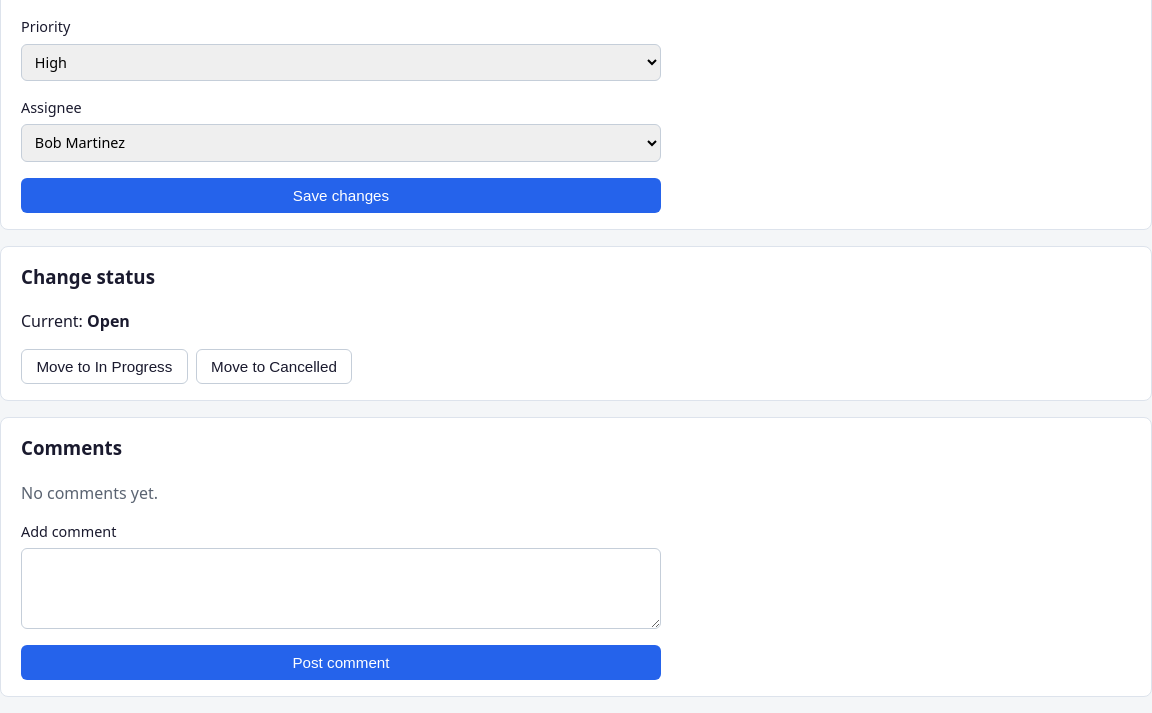
Test: TicketDetailPage › submits comment with X-User-Id
(page scrolled)
Type "Checking logs" into the text box labelled "Add comment" at (341,589), box [21, 548, 661, 629]
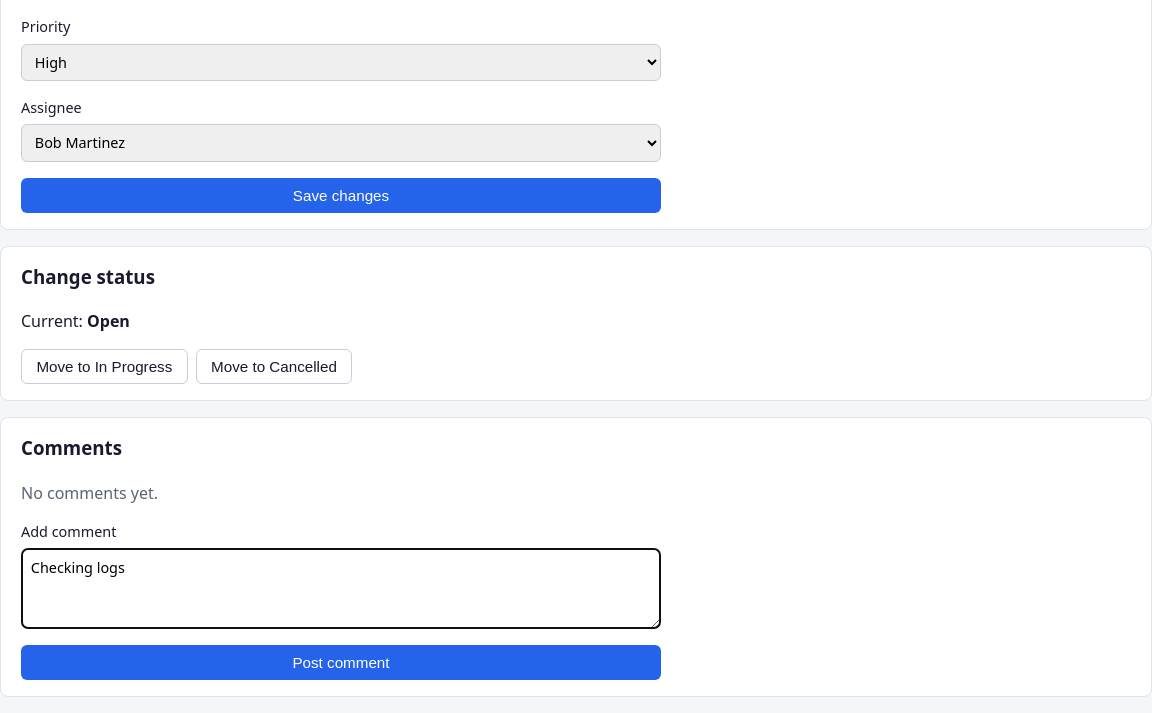
Click the button "Post comment" at (341,663), box [21, 646, 661, 680]
(page scrolled)
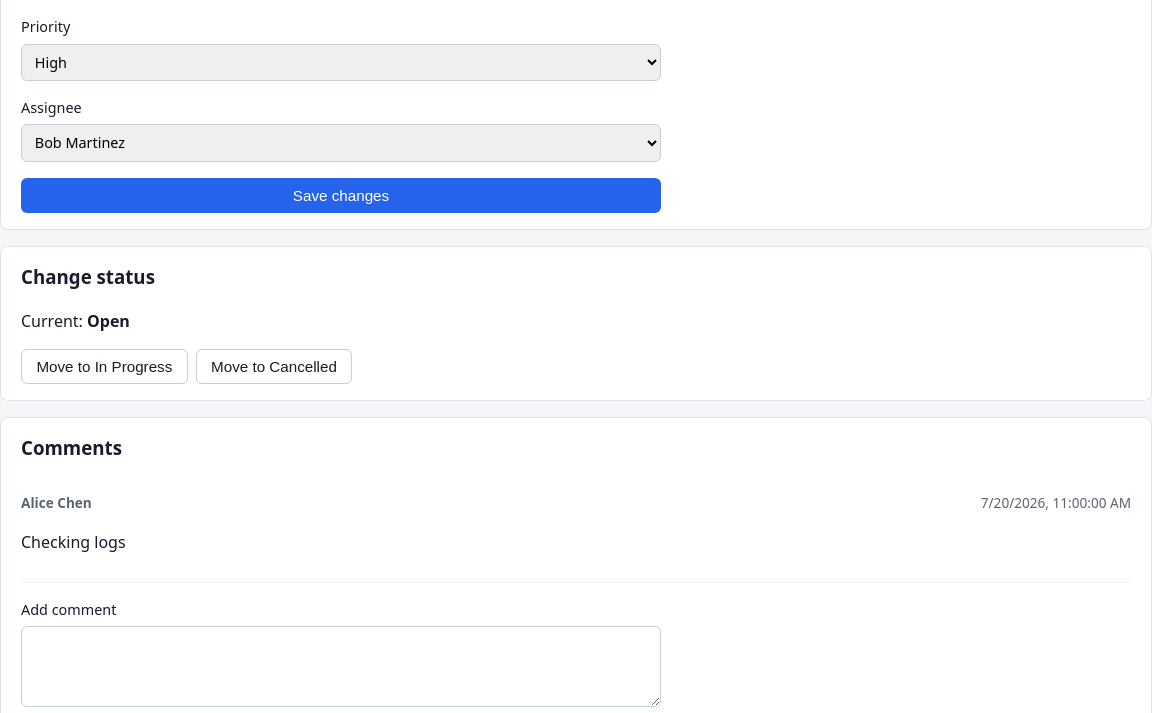
Expected: the text "Checking logs" is shown, [21, 530, 126, 552]
